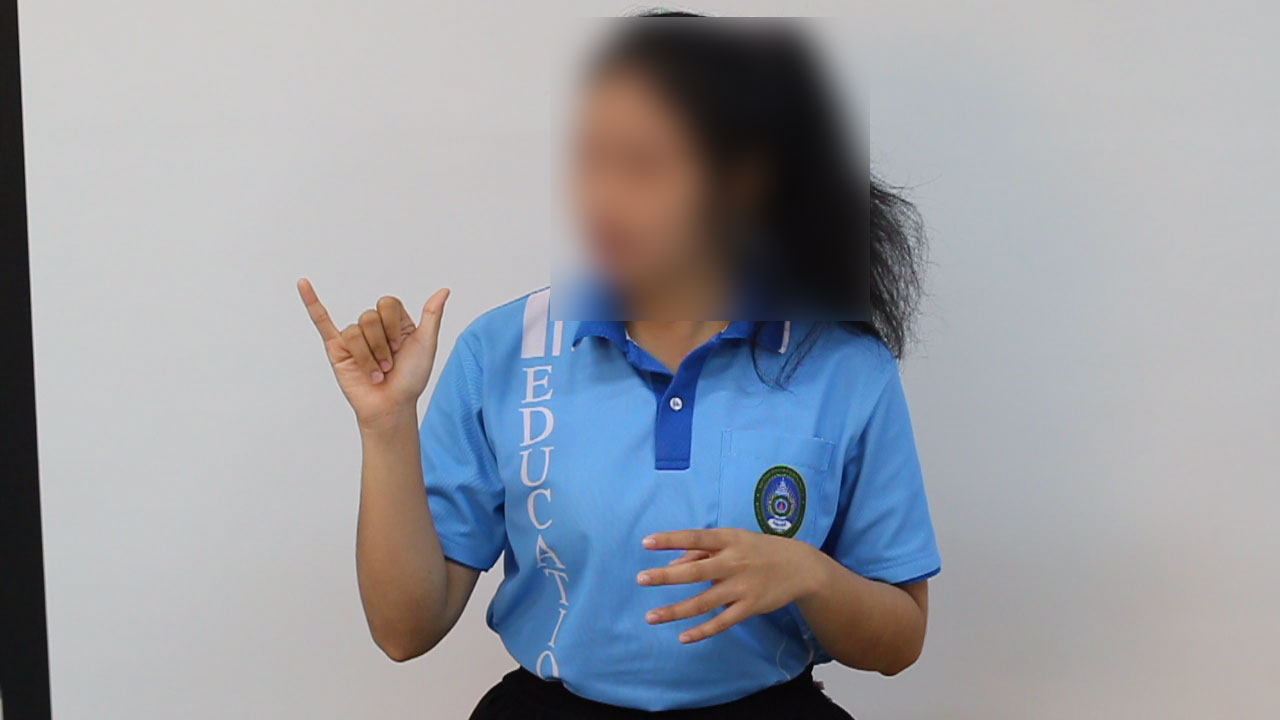yor: (287, 271, 467, 424)
